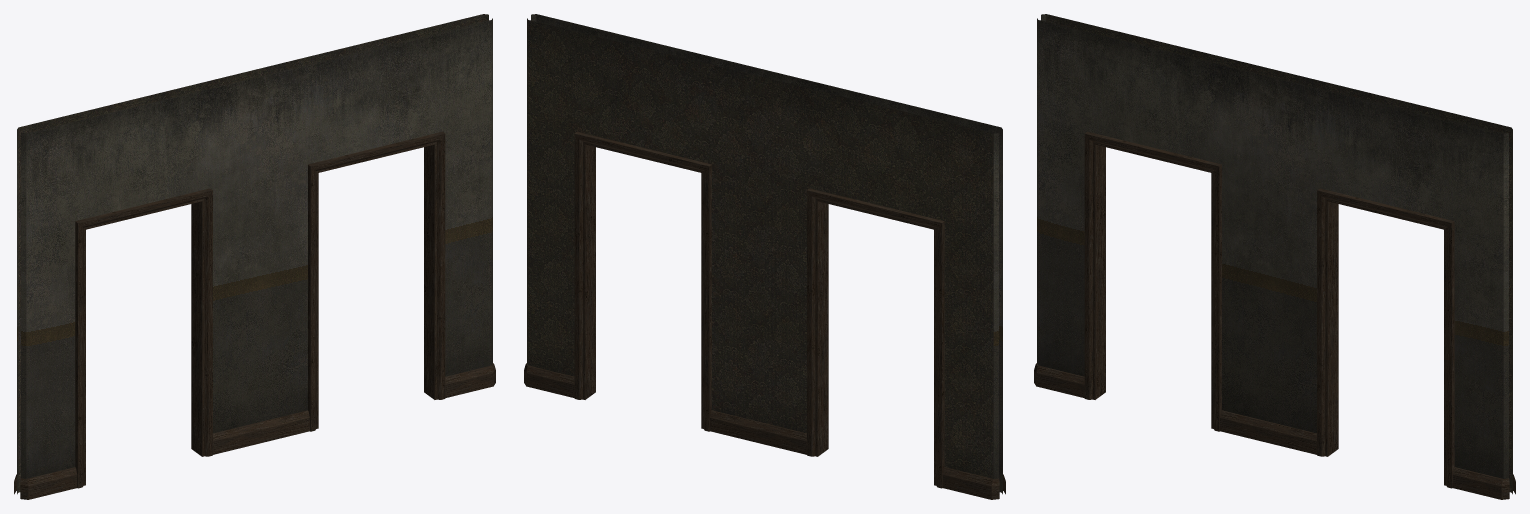
Rendered from double_single_doorway_1.glb.
The picture shows the model from 3 angles, left to right: view 1: azimuth 30°, elevation 25°; view 2: azimuth 150°, elevation 25°; view 3: azimuth 330°, elevation 25°; orthographic projection.
Visible parts, largest first — view 1: double_single_doorway_1; view 2: double_single_doorway_1; view 3: double_single_doorway_1.
Part boxes in pixels (x1,y1,x2,y2): double_single_doorway_1: (14, 14, 495, 499); double_single_doorway_1: (524, 14, 1005, 499); double_single_doorway_1: (1034, 14, 1515, 499).
Size of the model in its own units: 4.09 by 3 by 0.2.
Materials: 3 (3 with a texture image).
